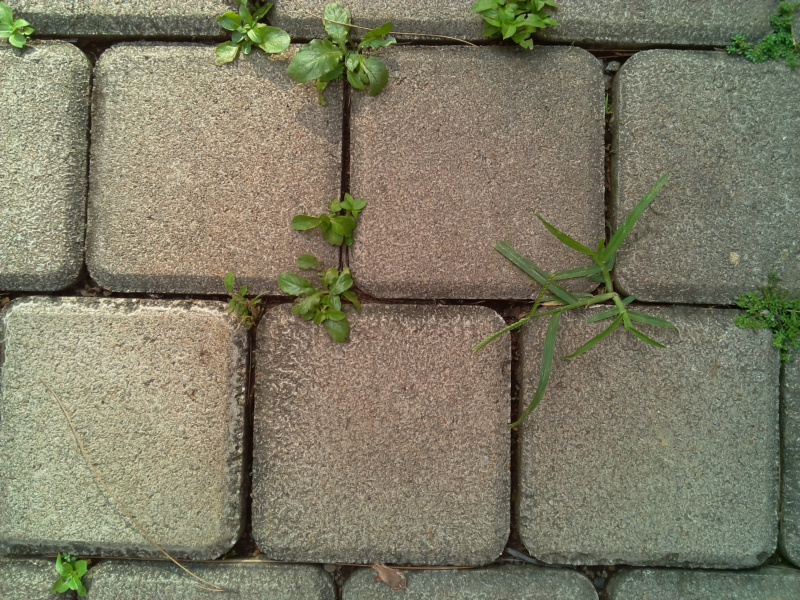Weed: (499, 213, 668, 371), (293, 8, 398, 102), (272, 259, 377, 350), (732, 271, 800, 366), (723, 1, 800, 79), (214, 6, 294, 71), (284, 191, 365, 252), (468, 3, 562, 53), (209, 268, 266, 335), (48, 548, 95, 598), (1, 2, 43, 57)
